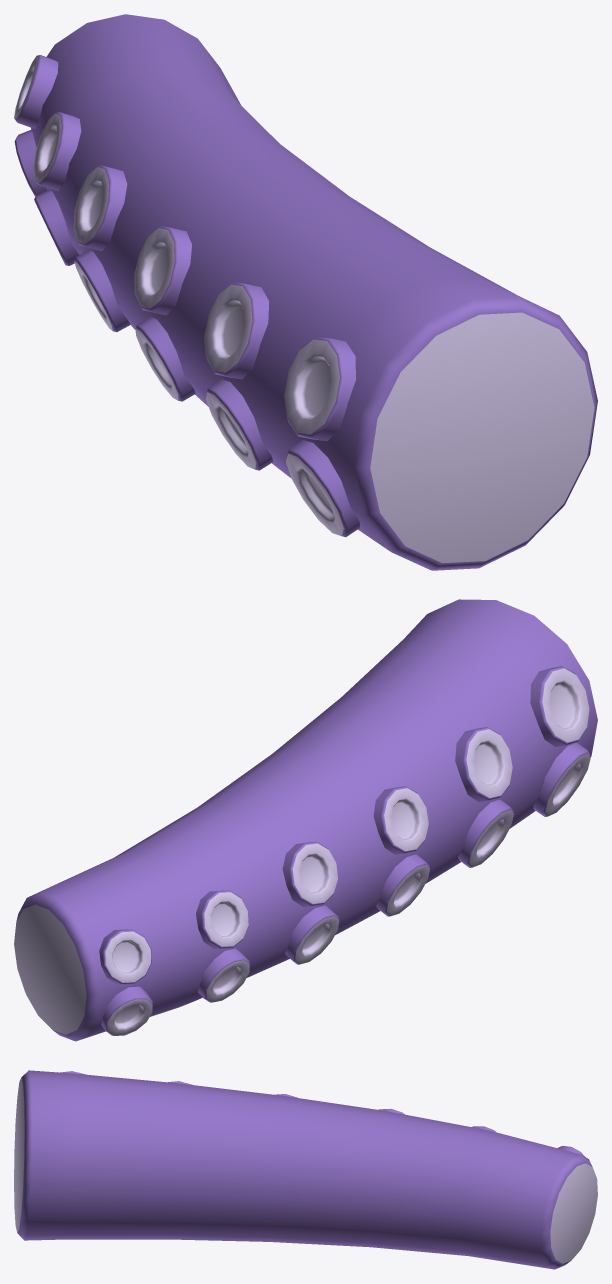
The model's file is Octopus_Tentacles_2_Piece_2.fbx.
3 renders of one model, top to bottom at view 1: azimuth 30°, elevation 25°; view 2: azimuth 150°, elevation 25°; view 3: azimuth 270°, elevation 25°, orthographic. The views are drawn at different scales.
Visible parts, largest first — view 1: Octopus_Tentacles_2_Piece_2; view 2: Octopus_Tentacles_2_Piece_2; view 3: Octopus_Tentacles_2_Piece_2.
Part boxes in pixels (x1,y1,x2,y2): Octopus_Tentacles_2_Piece_2: (14,14,597,570); Octopus_Tentacles_2_Piece_2: (14,599,597,1041); Octopus_Tentacles_2_Piece_2: (14,1070,597,1269).
Bounding box in the file's own units: 12.39 × 9.35 × 32.
